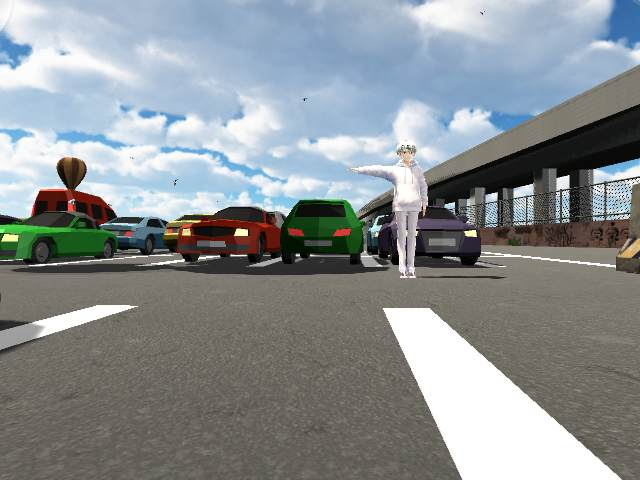singleP_left: (349, 141, 430, 281)
